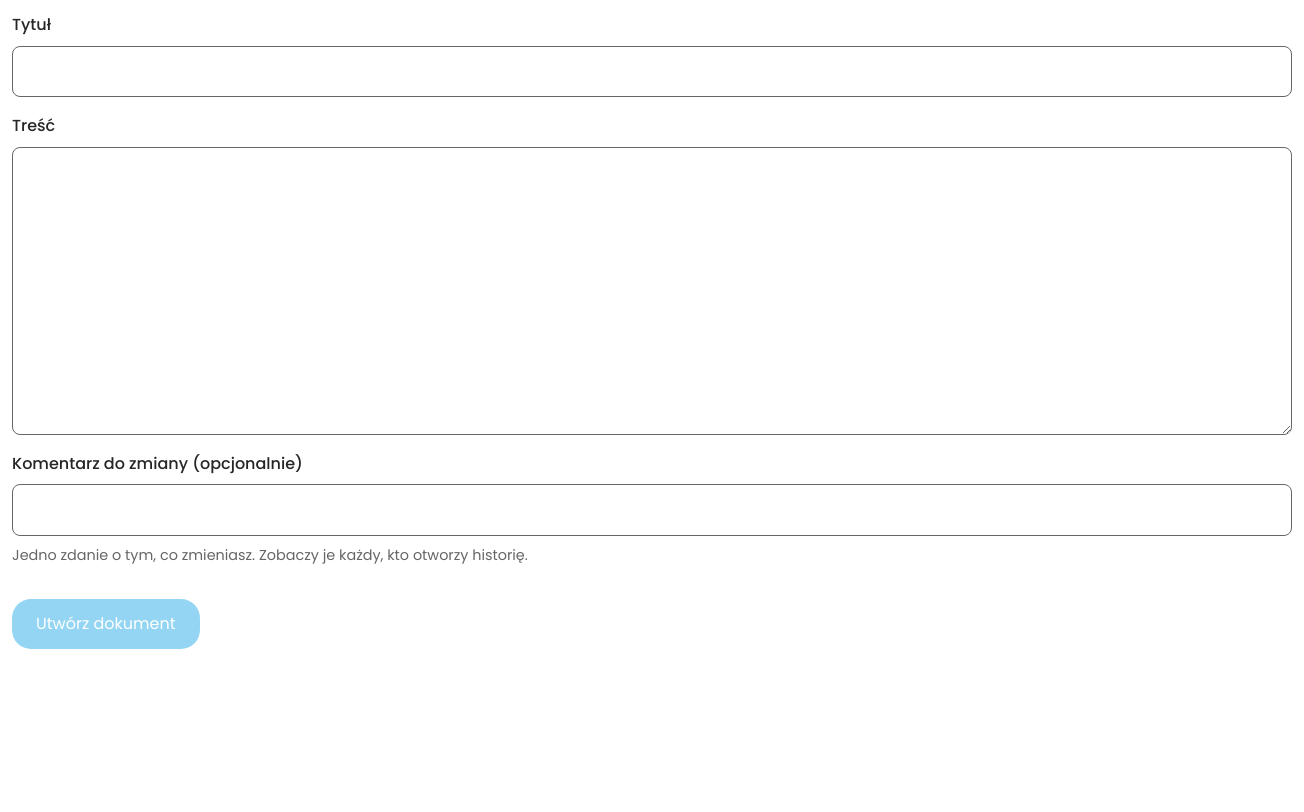
NewDocumentForm › keeps the text on screen when the save is refused
Type "Nowy rozdzial" into the field labelled "Tytuł".
click(652, 71); type("Nowy rozdzial")  # box [12,46,1292,97]
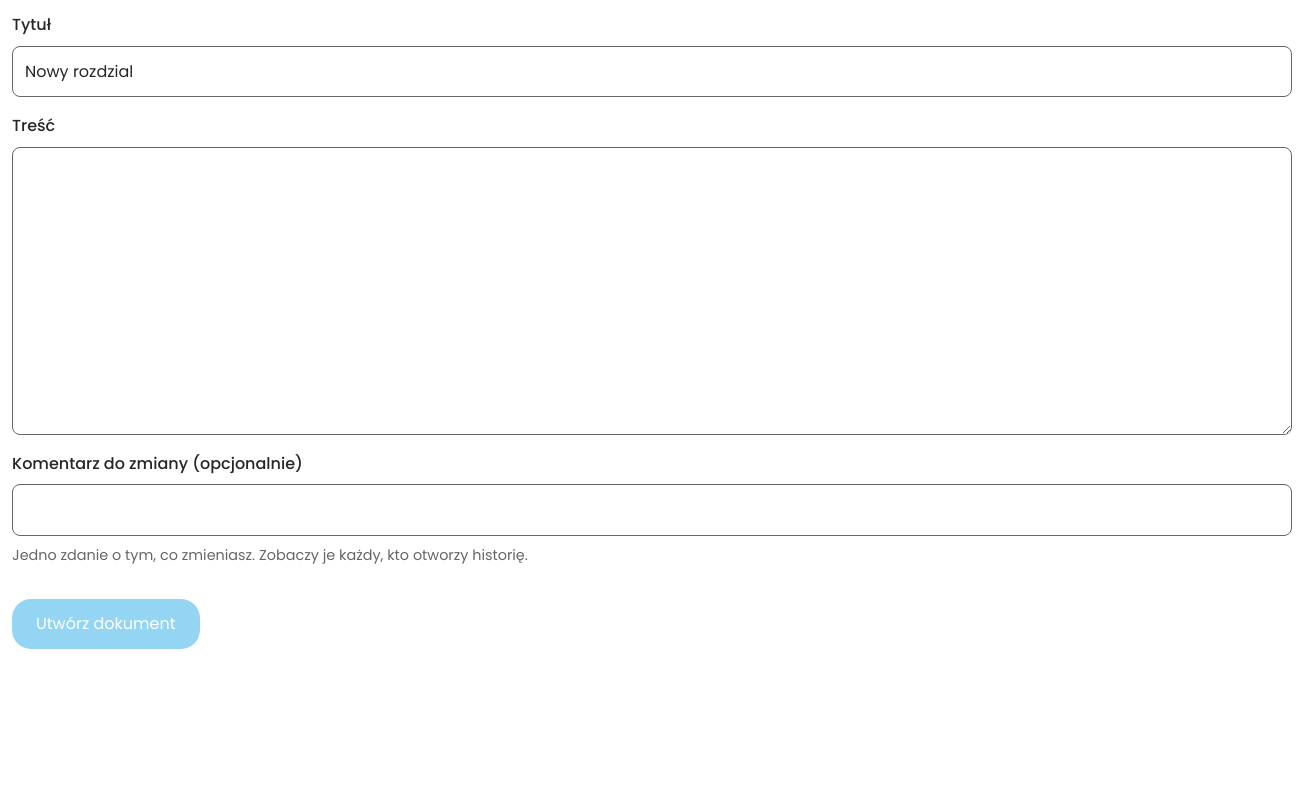
Type "Tresc, ktorej nie wolno zgubic." into the text box labelled "Treść".
click(652, 291); type("Tresc, ktorej nie wolno zgubic.")  # box [12,147,1292,435]
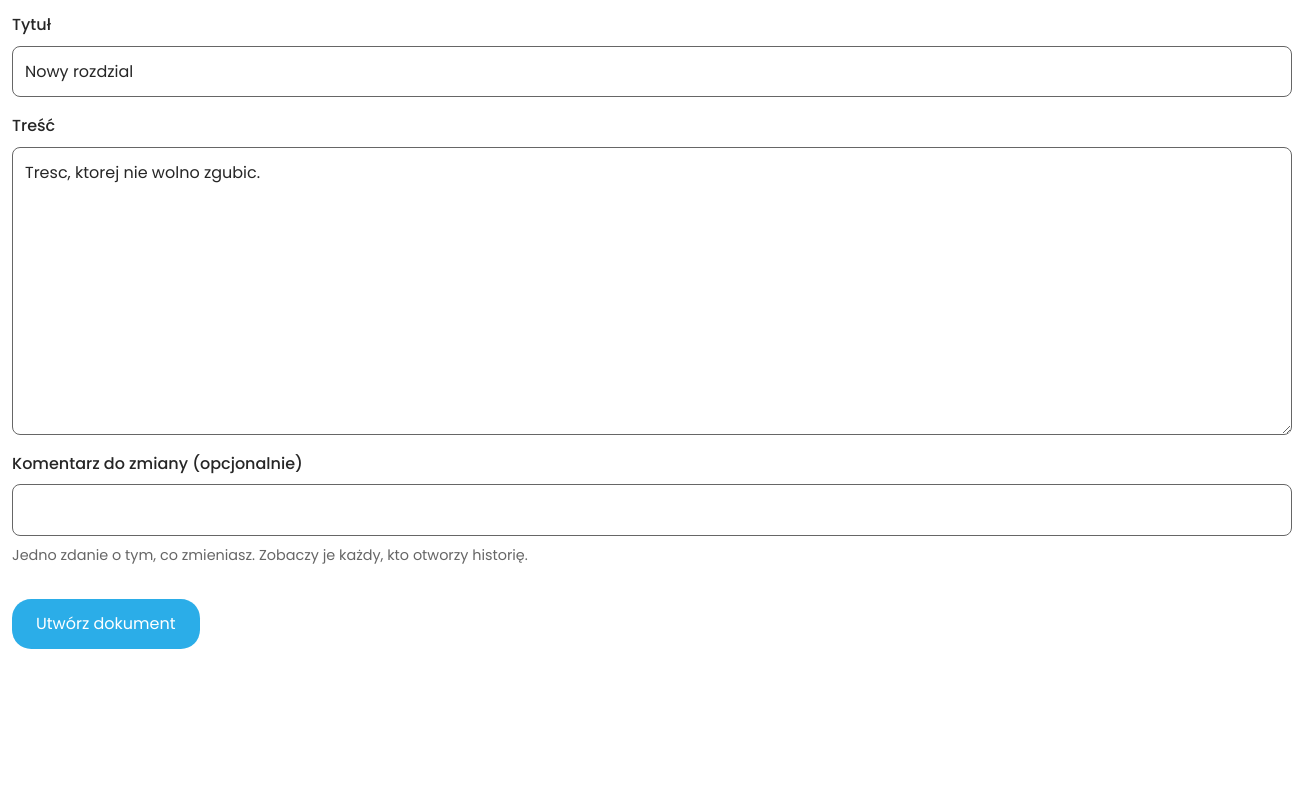
Click the button "Utwórz dokument".
click(106, 624)  # box [12,599,200,649]
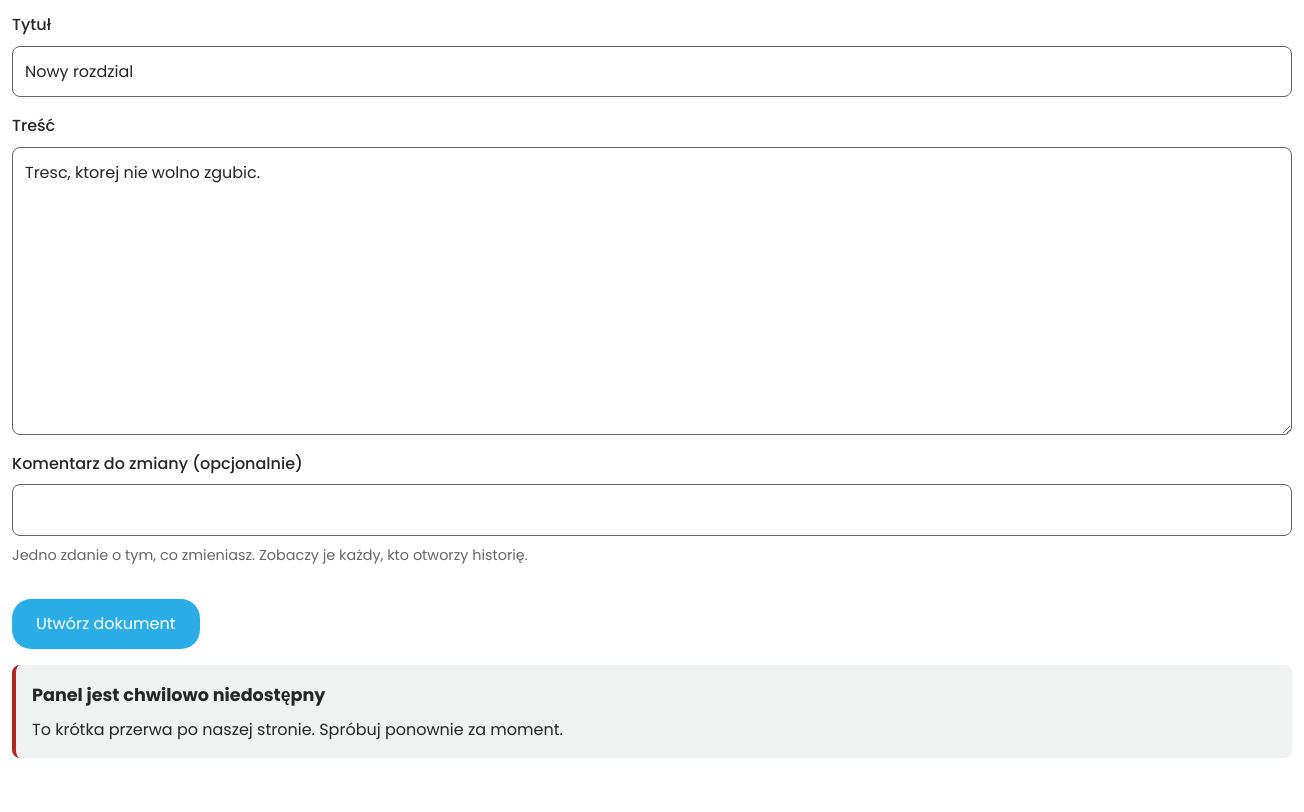
Now the heading "Panel jest chwilowo niedostępny" is shown, box [32,683,326,707]
